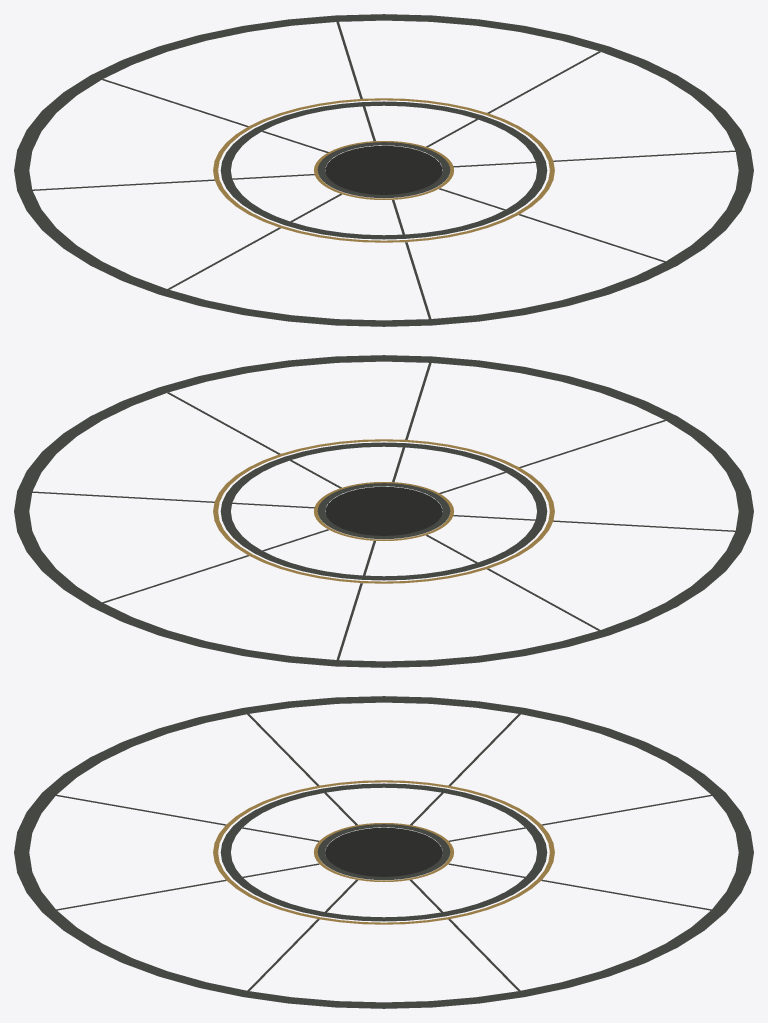
Rendered from b4_floor_rings.glb.
3 renders of one model, top to bottom at view 1: azimuth 30°, elevation 25°; view 2: azimuth 150°, elevation 25°; view 3: azimuth 270°, elevation 25°, orthographic.
Visible parts, largest first — view 1: b4_floor_rings; view 2: b4_floor_rings; view 3: b4_floor_rings.
Boxes of the visible parts, x1,y1,x2,y2 form: b4_floor_rings: (14,14,753,326); b4_floor_rings: (14,355,753,667); b4_floor_rings: (14,696,753,1008).
Bounding box in the file's own units: 29 × 0.03 × 29.
